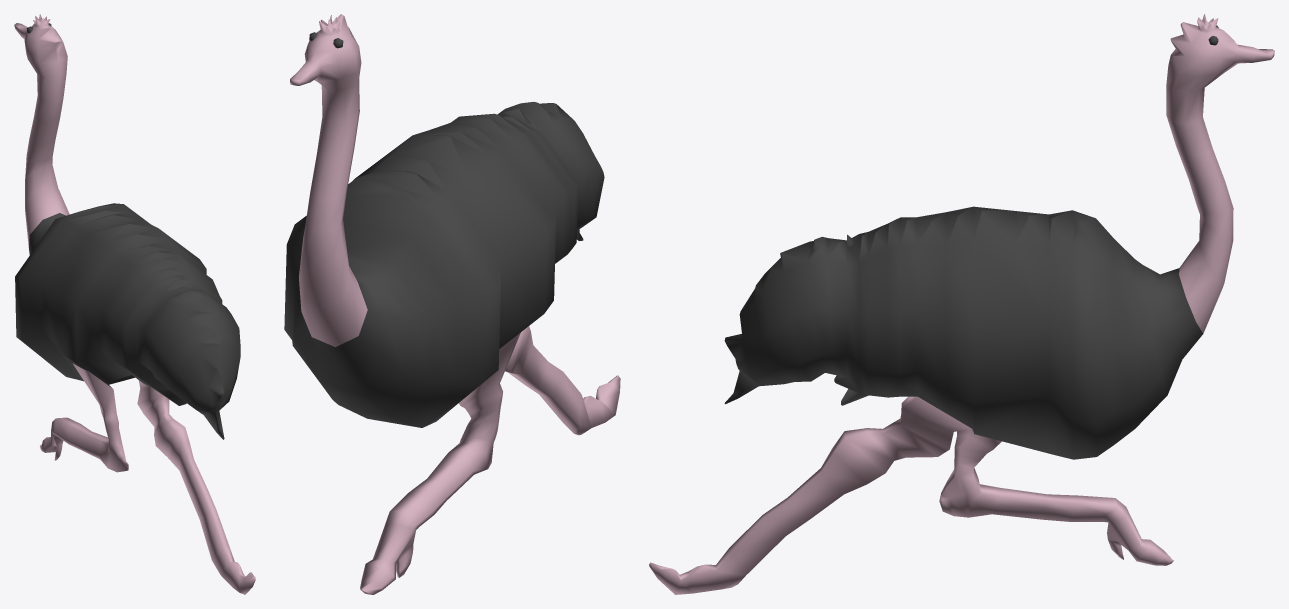
The picture shows the model from 3 angles, left to right: view 1: azimuth 30°, elevation 25°; view 2: azimuth 150°, elevation 25°; view 3: azimuth 270°, elevation 25°; orthographic projection. The views are drawn at different scales.
Visible parts, largest first — view 1: Cilindro.002; view 2: Cilindro.002; view 3: Cilindro.002.
Part boxes in pixels (x1,y1,x2,y2): Cilindro.002: [14, 14, 255, 594]; Cilindro.002: [284, 14, 620, 594]; Cilindro.002: [649, 14, 1274, 594].
Bounding box in the file's own units: 0.367 × 1.02 × 1.01.
